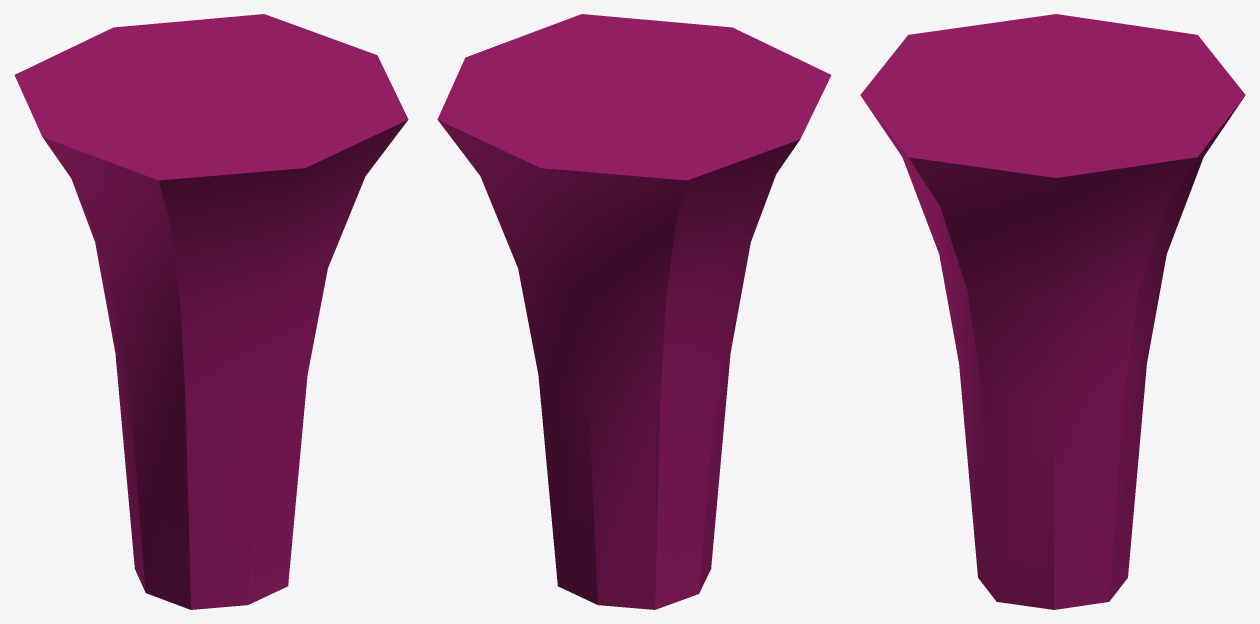
Rendered from Rose_Stem.fbx.
3 views of the same model, side by side, from view 1: azimuth 30°, elevation 25°; view 2: azimuth 150°, elevation 25°; view 3: azimuth 270°, elevation 25° (orthographic).
Parts seen in each view (by area): view 1: Rose_Stem; view 2: Rose_Stem; view 3: Rose_Stem.
Boxes of the visible parts, x1,y1,x2,y2 form: Rose_Stem: [14, 14, 408, 609]; Rose_Stem: [437, 14, 831, 609]; Rose_Stem: [860, 14, 1245, 609].
Size of the model in its own units: 5.19 by 7.11 by 5.15.
